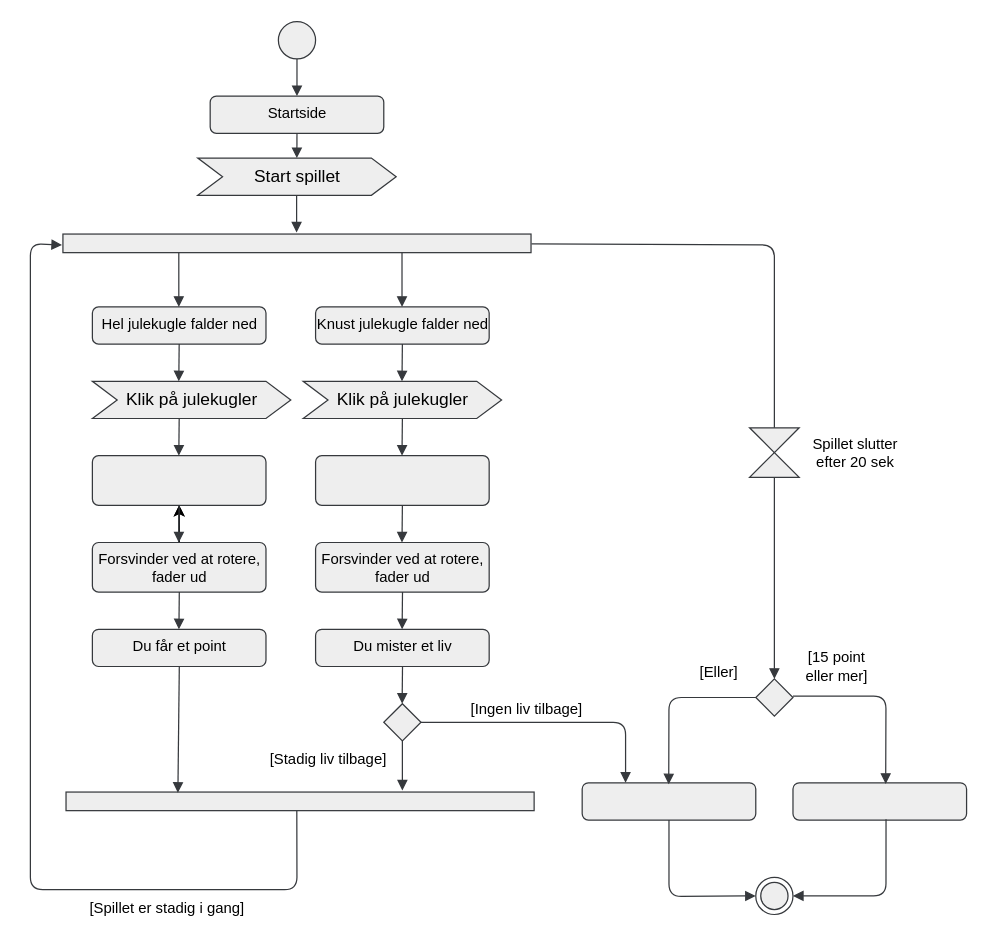
The diagram is 988 pixels wide and 949 high, and some of its shapes have lost their labels. Each missing label, with the centre of its shape:
"Game over" goes at (x=668, y=801).
"Level complete" goes at (x=879, y=801).
"Spil kling lyd Funklende julekugle vises" goes at (x=178, y=479).
"Spil knas lyd Knust julekugle vises" goes at (x=401, y=479).
